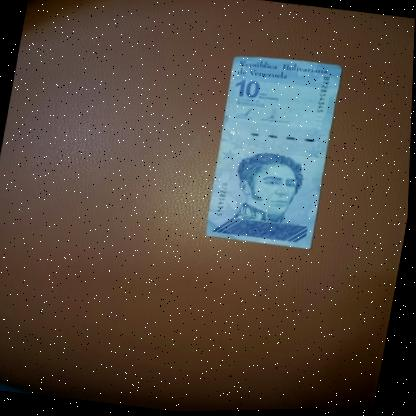vef_front: (203, 52, 345, 253)
